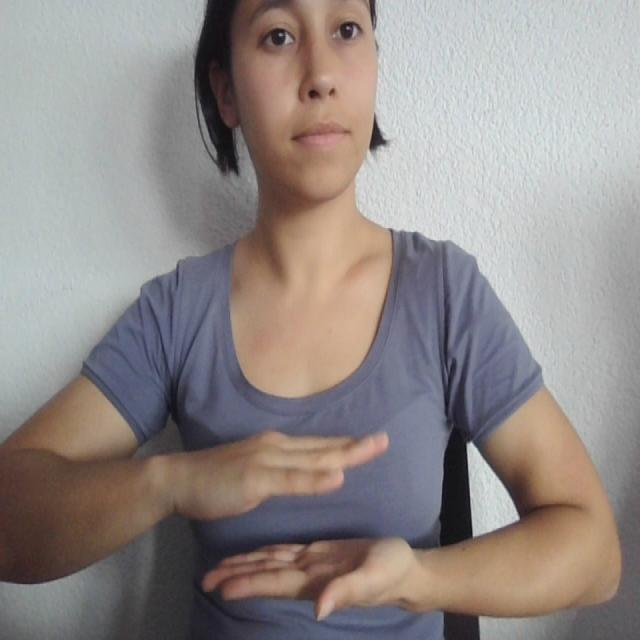Arkadas: (90, 419, 584, 631)
